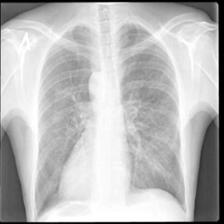tuberculosis: (28, 17, 192, 220)
